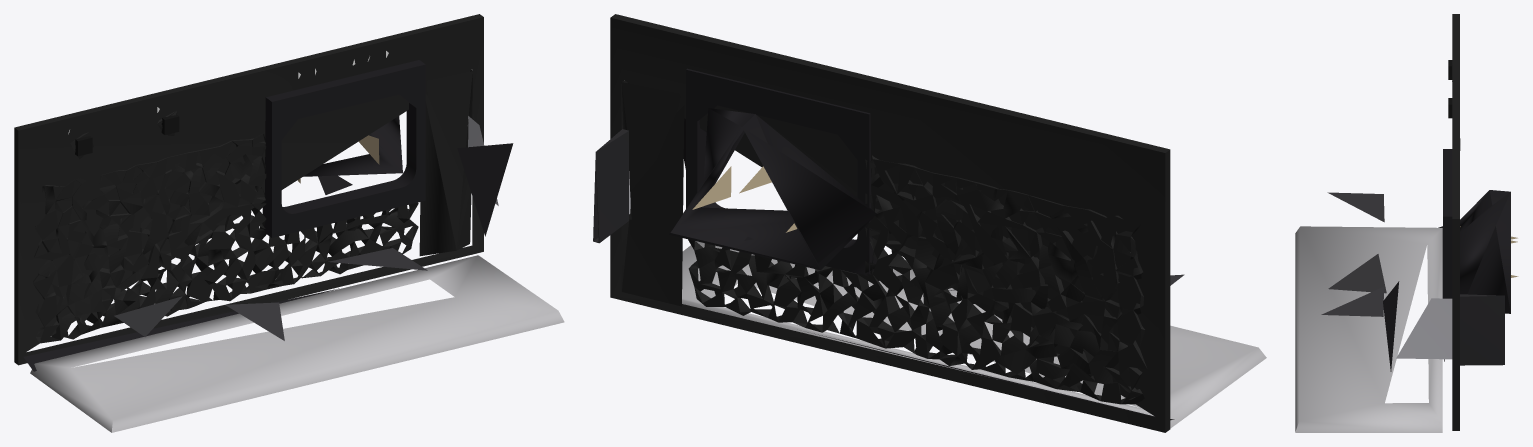
File: PWR-C1-350WAC.far.glb
3 views of the same model, side by side, from view 1: azimuth 30°, elevation 25°; view 2: azimuth 150°, elevation 25°; view 3: azimuth 270°, elevation 25° (orthographic). The views are drawn at different scales.
Visible parts, largest first — view 1: Body_far; view 2: Body_far; view 3: Body_far.
Part boxes in pixels (x1=…): Body_far: x1=14, y1=14, x2=564, y2=432; Body_far: x1=593, y1=14, x2=1266, y2=432; Body_far: x1=1295, y1=14, x2=1518, y2=432.
Size of the model in its own units: 0.083 by 0.0409 by 0.0383.
Materials: 2 (1 with a texture image).
